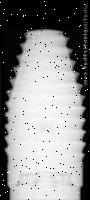BioHorizons: (3, 27, 87, 200)
